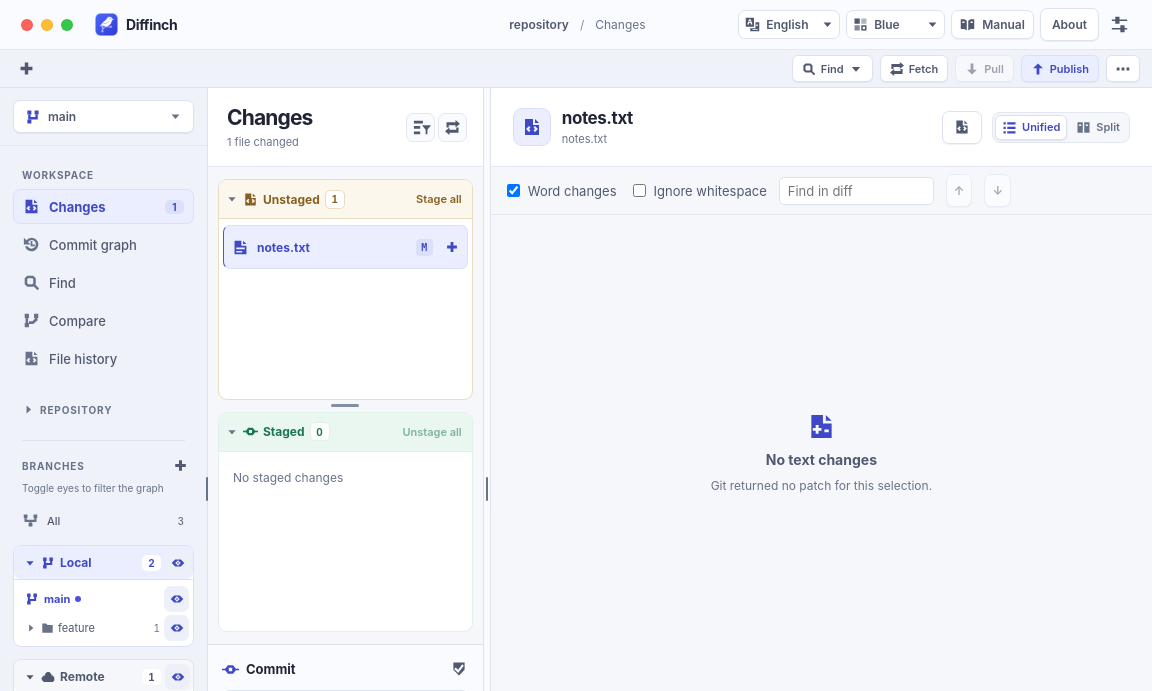
Test case: keeps the reviewed branch when confirming Revert… after a refresh
Click the button "Commit graph" at (104, 244), box [13,227,194,262]
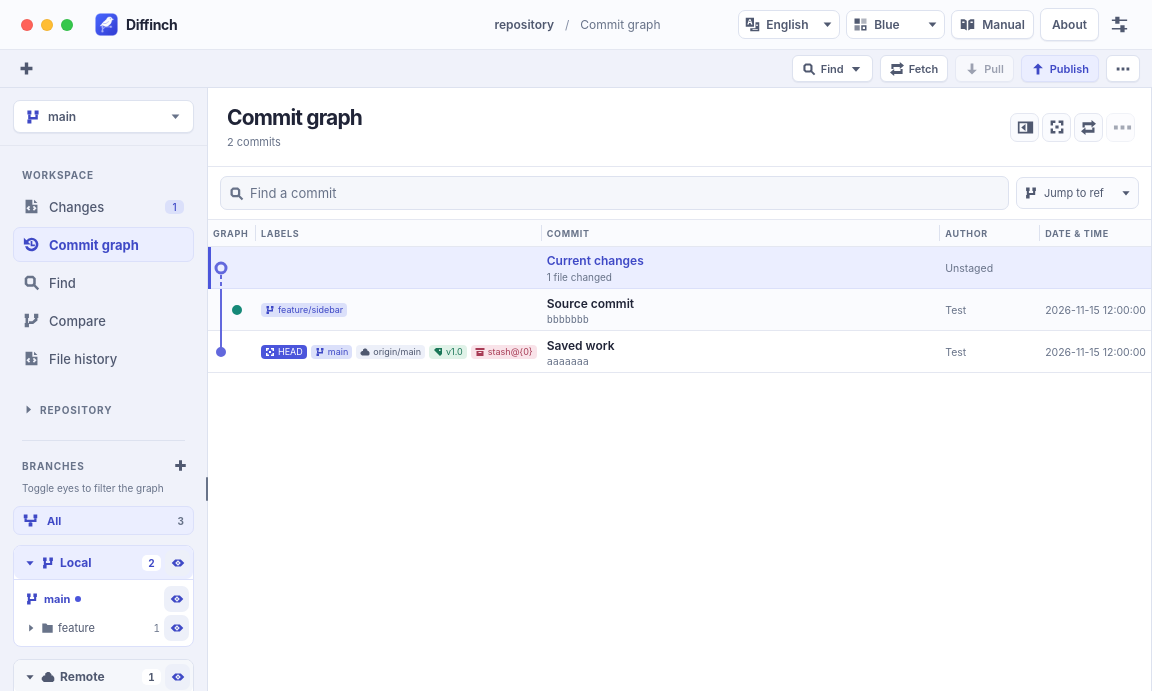
Click the button with aria-label "Source commit," at (229, 310), box [208,289,1151,331]
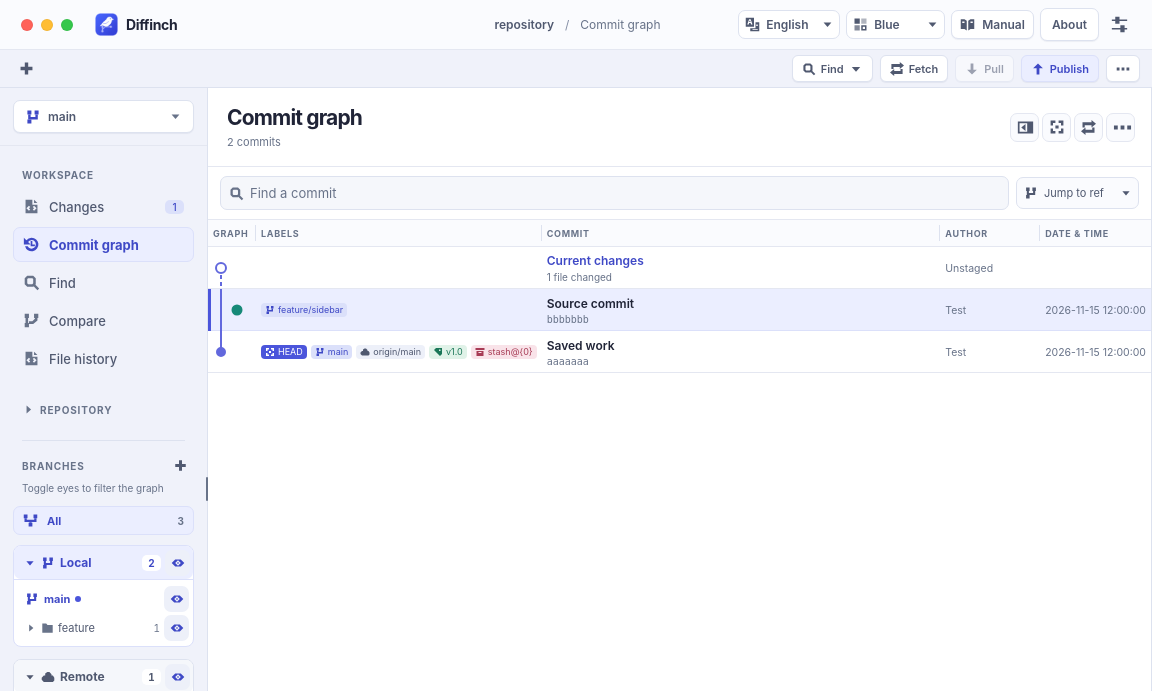
Click the button named "Commit actions" at (1120, 127), box [1106,112,1135,142]
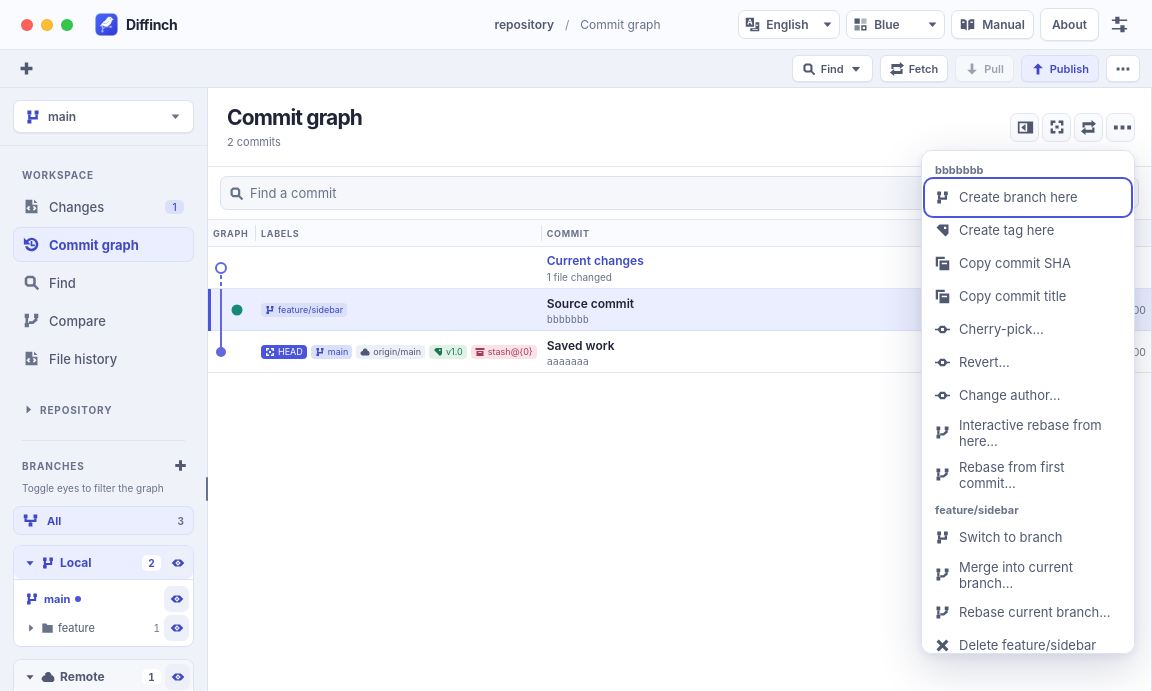
Click the button "Revert…" at (1028, 362), box [927,346,1129,378]
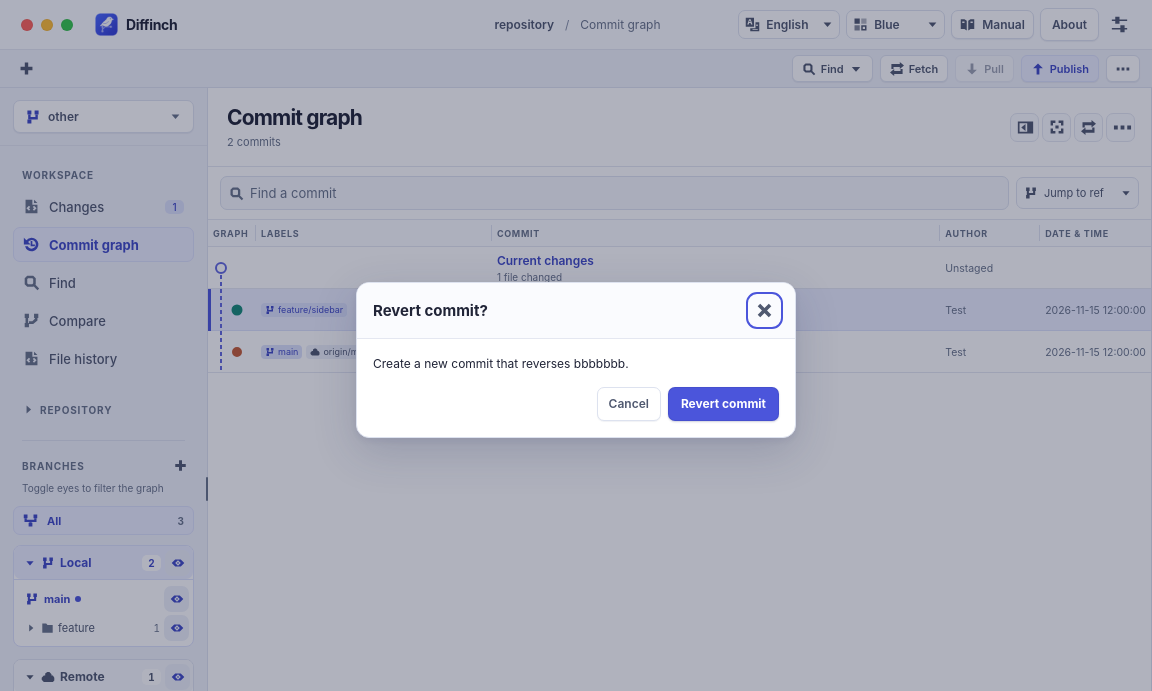
Click the button "Revert commit" at (723, 404), box [668,387,779,421]
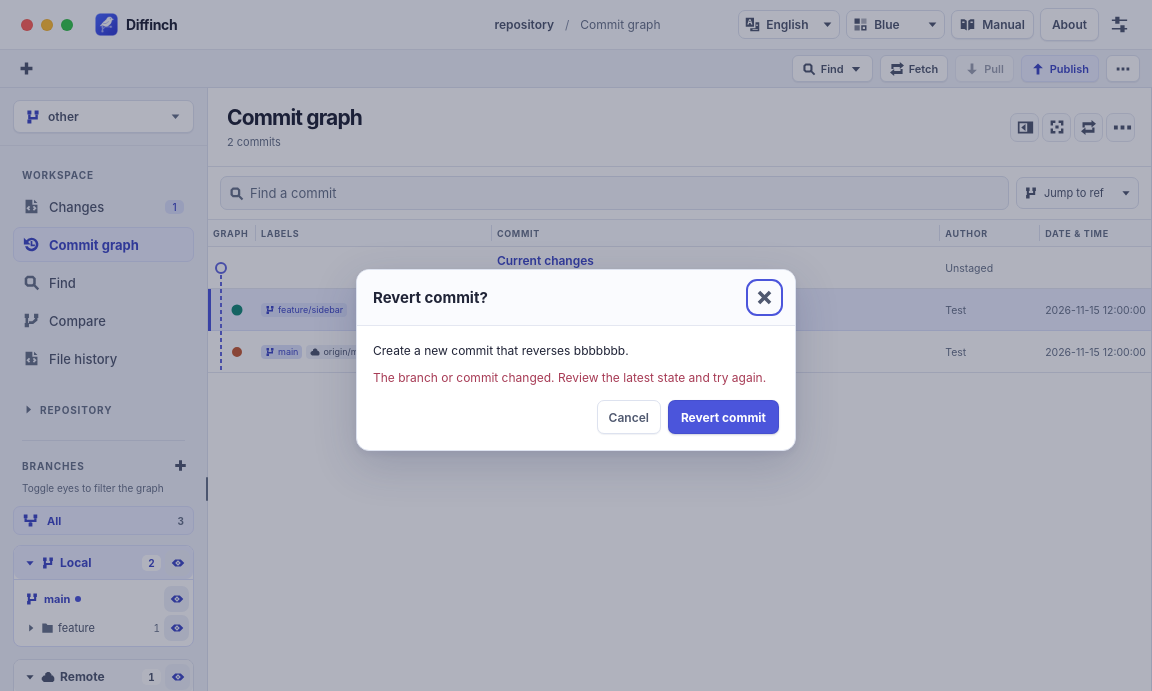
Now the message shows "branch or commit changed", box [373,370,766,385]
